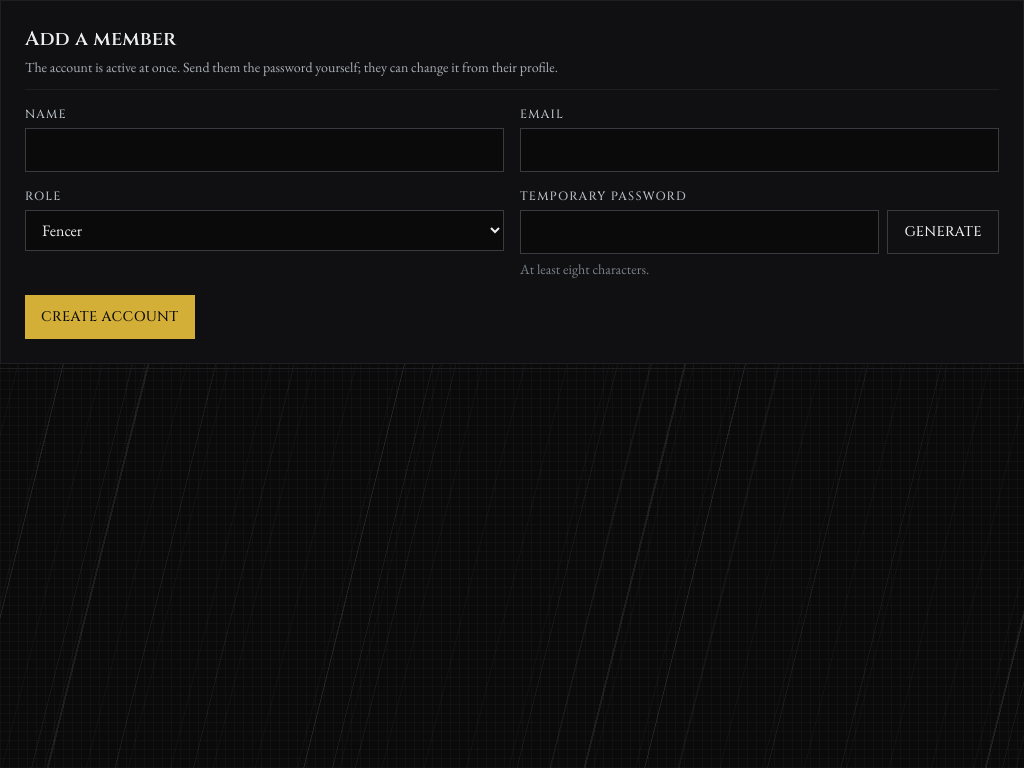
Test case: AddMemberForm › shows the function's own reason when it refuses
The image size is (1024, 768).
Type "Yiling Ku" into the field labelled "Name".
click(264, 150); type("Yiling Ku")  # box [25,128,504,172]
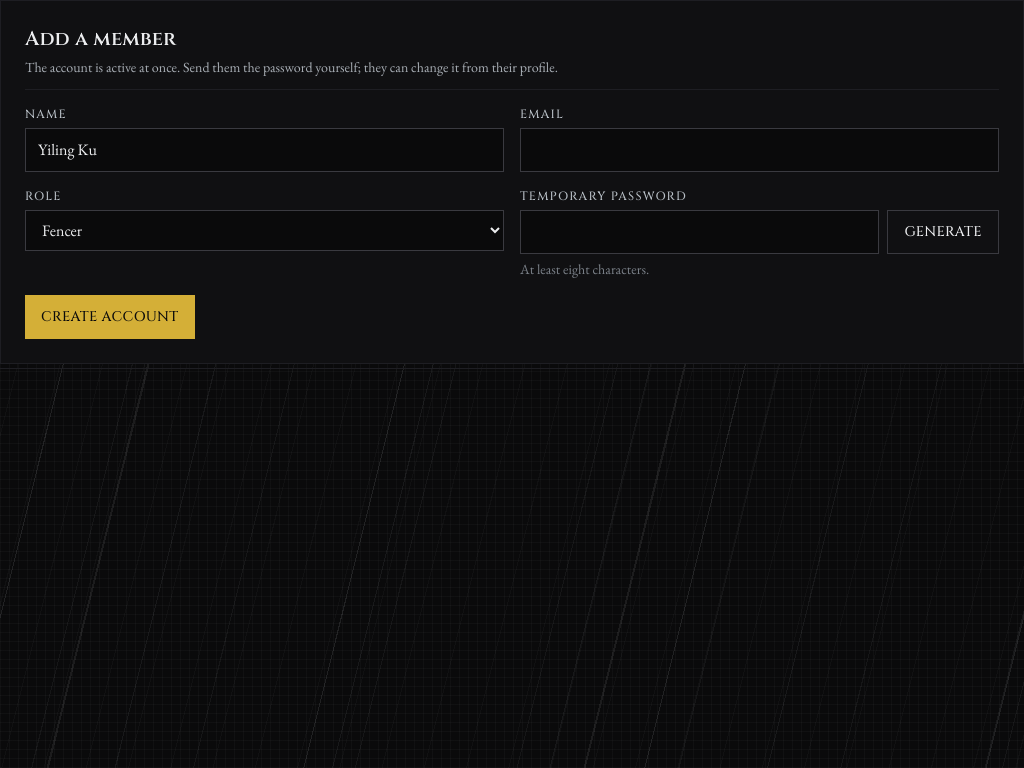
Type "yiling@example.com" into the field labelled "Email".
click(760, 150); type("yiling@example.com")  # box [520,128,999,172]
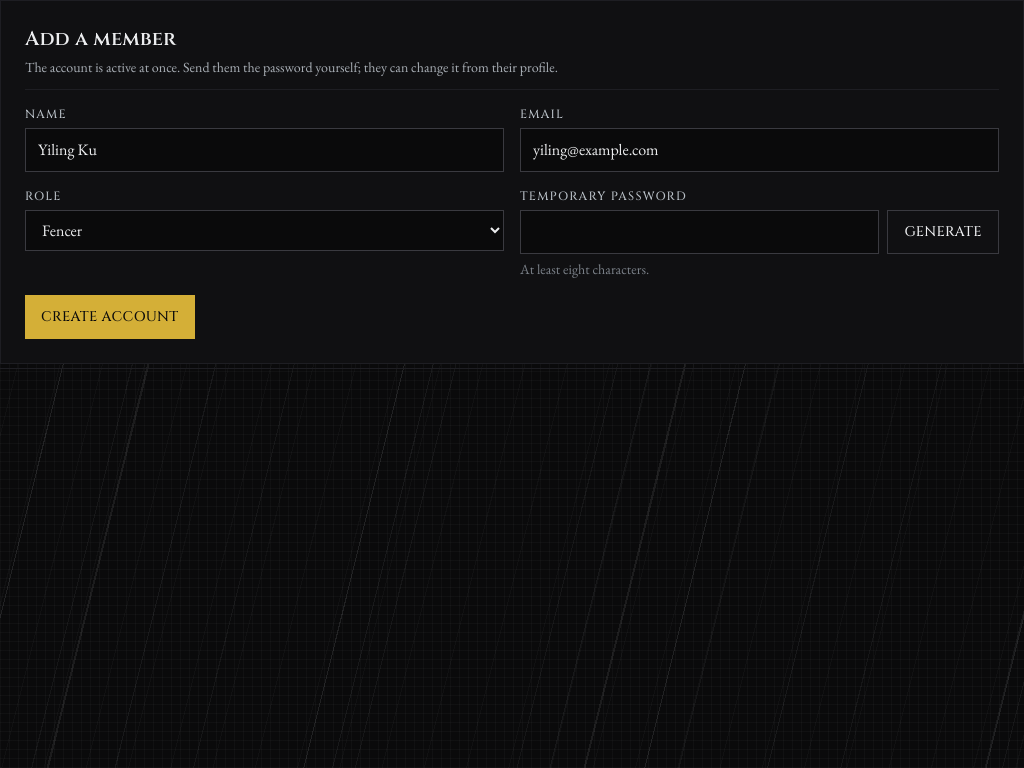
Select "Coach" in the dropdown labelled "Role" at coordinates (264, 230), box [25,210,504,251]
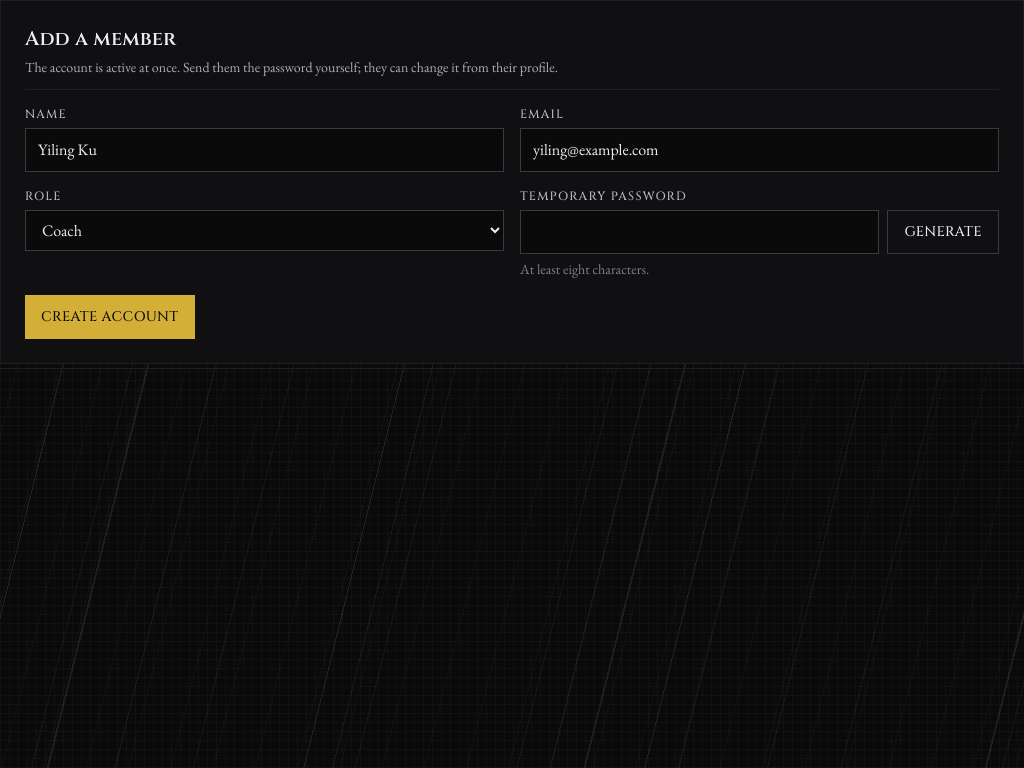
Type "en-garde-8" into the field labelled "Temporary password".
click(700, 232); type("en-garde-8")  # box [520,210,879,254]
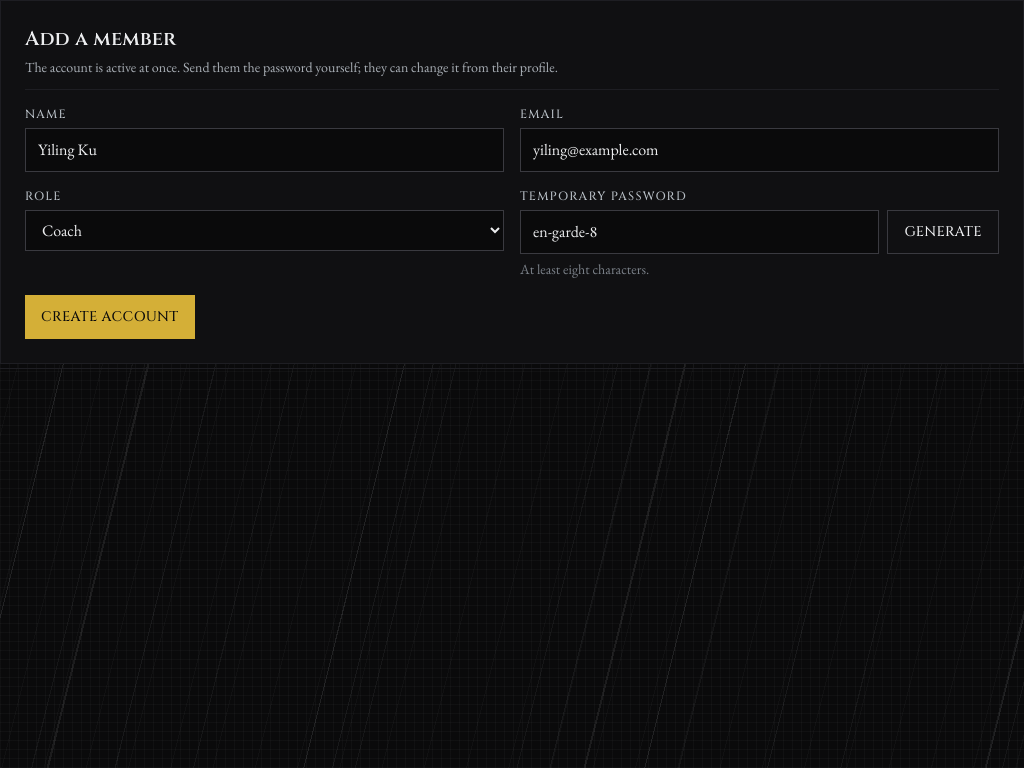
Click the button "Create account".
click(110, 317)  # box [25,295,194,339]
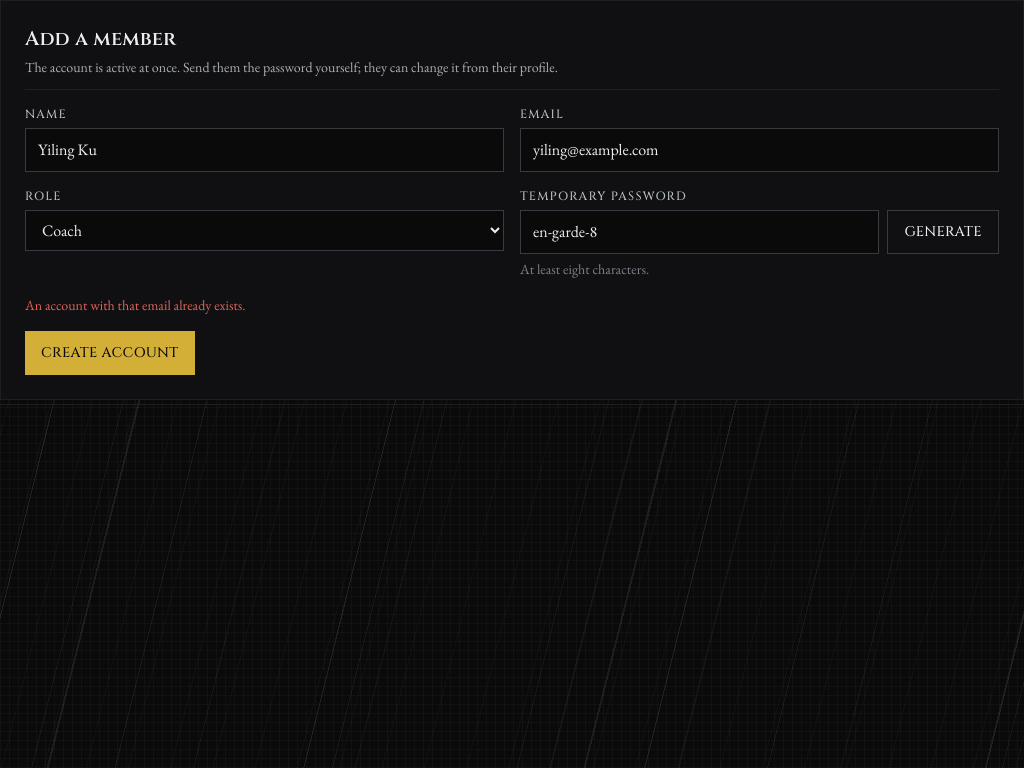
Result: the message shows "already exists" at [25,296,246,314]
